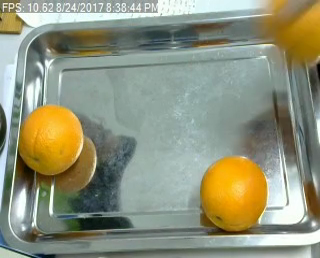Orange: (200, 154, 268, 231), (19, 105, 84, 176)
